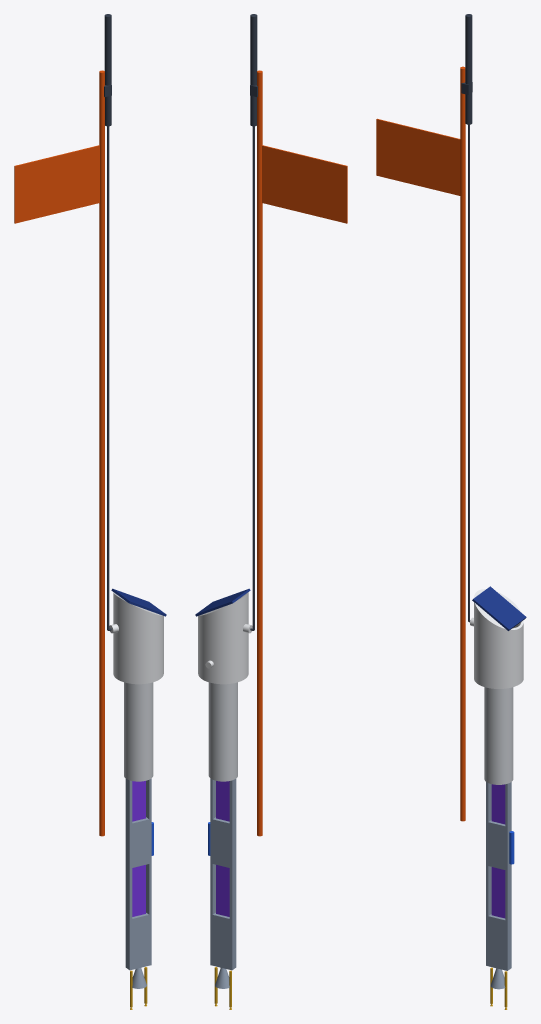
3 renders of one model, left to right at view 1: azimuth 30°, elevation 25°; view 2: azimuth 150°, elevation 25°; view 3: azimuth 330°, elevation 25°, orthographic.
Visible parts, largest first — view 1: Marker rod and flag, Sensor fin, printed, Head enclosure, printed ASA, Stake tube, 40 mm PVC, Antenna on marker rod, with coax, Capacitive moisture probes (2), Solar panel, 0.5 W; view 2: Marker rod and flag, Sensor fin, printed, Head enclosure, printed ASA, Stake tube, 40 mm PVC, Antenna on marker rod, with coax, Capacitive moisture probes (2), Solar panel, 0.5 W; view 3: Marker rod and flag, Sensor fin, printed, Head enclosure, printed ASA, Stake tube, 40 mm PVC, Antenna on marker rod, with coax, Capacitive moisture probes (2), Solar panel, 0.5 W.
Part boxes in pixels (x1,y1,x2,y2): Marker rod and flag: [14, 70, 104, 836]; Sensor fin, printed: [125, 778, 151, 988]; Head enclosure, printed ASA: [109, 592, 163, 684]; Stake tube, 40 mm PVC: [124, 682, 153, 781]; Antenna on marker rod, with coax: [104, 14, 111, 630]; Capacitive moisture probes (2): [132, 781, 145, 916]; Solar panel, 0.5 W: [111, 588, 166, 616]; Marker rod and flag: [257, 70, 347, 836]; Sensor fin, printed: [210, 778, 236, 988]; Head enclosure, printed ASA: [198, 592, 252, 684]; Stake tube, 40 mm PVC: [208, 682, 237, 781]; Antenna on marker rod, with coax: [250, 14, 257, 630]; Capacitive moisture probes (2): [216, 781, 229, 916]; Solar panel, 0.5 W: [195, 588, 250, 616]; Marker rod and flag: [376, 66, 465, 821]; Sensor fin, printed: [486, 782, 511, 989]; Head enclosure, printed ASA: [470, 589, 523, 688]; Stake tube, 40 mm PVC: [484, 687, 513, 784]; Antenna on marker rod, with coax: [461, 14, 472, 622]; Capacitive moisture probes (2): [491, 784, 505, 918]; Solar panel, 0.5 W: [472, 586, 526, 630].
Size of the model in its own units: 0.24 by 1.57 by 0.0785.
